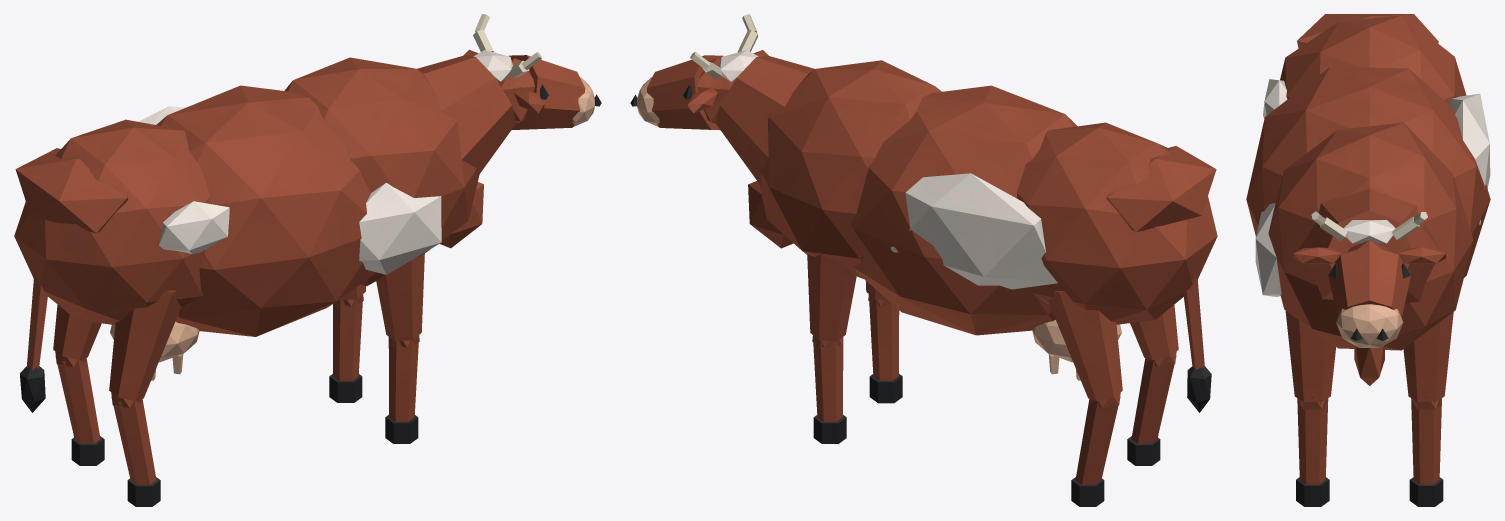
File: ko_rod_tex.glb
3 views of the same model, side by side, from view 1: azimuth 30°, elevation 25°; view 2: azimuth 150°, elevation 25°; view 3: azimuth 270°, elevation 25° (orthographic).
Visible parts, largest first — view 1: ko_rod; view 2: ko_rod; view 3: ko_rod.
Part boxes in pixels (x1,y1,x2,y2): ko_rod: [14, 14, 601, 506]; ko_rod: [630, 14, 1217, 506]; ko_rod: [1246, 14, 1490, 506].
Bounding box in the file's own units: 2.6 × 1.53 × 0.9446.
5 materials, 4 textured.
